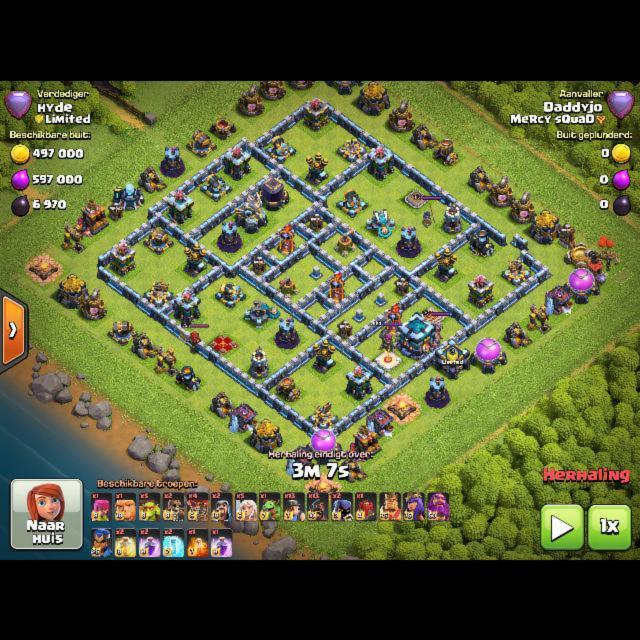AD: (434, 246, 458, 282), (312, 339, 336, 374), (304, 150, 328, 185), (183, 242, 207, 277)
AirSweeper: (334, 228, 357, 257), (276, 275, 299, 299)
BombTower: (249, 345, 269, 378), (442, 202, 462, 233)
Canon: (335, 188, 368, 217), (200, 172, 233, 200), (186, 129, 216, 158), (265, 134, 296, 162), (143, 227, 174, 254), (107, 319, 138, 345), (215, 281, 246, 307)
ClanCastle: (435, 338, 470, 379)
Eagle: (235, 191, 268, 233)
Inferno: (277, 224, 296, 255), (328, 273, 347, 304), (385, 303, 403, 335)
KingPad: (418, 307, 445, 326)
Mortar: (469, 229, 495, 258), (433, 137, 459, 165), (174, 365, 200, 391), (275, 376, 301, 401)
QueenPad: (209, 333, 238, 354)
RcPad: (405, 189, 428, 207)
Scattershot: (244, 299, 280, 328), (366, 207, 395, 237)
TH13: (397, 311, 436, 360)
WardenPad: (376, 350, 401, 369)
WizzTower: (160, 144, 184, 176), (217, 219, 241, 251), (397, 225, 420, 258), (276, 316, 299, 348), (426, 375, 449, 407)
Xbow: (307, 401, 339, 430), (143, 278, 174, 307), (501, 258, 532, 285), (336, 137, 367, 162)
